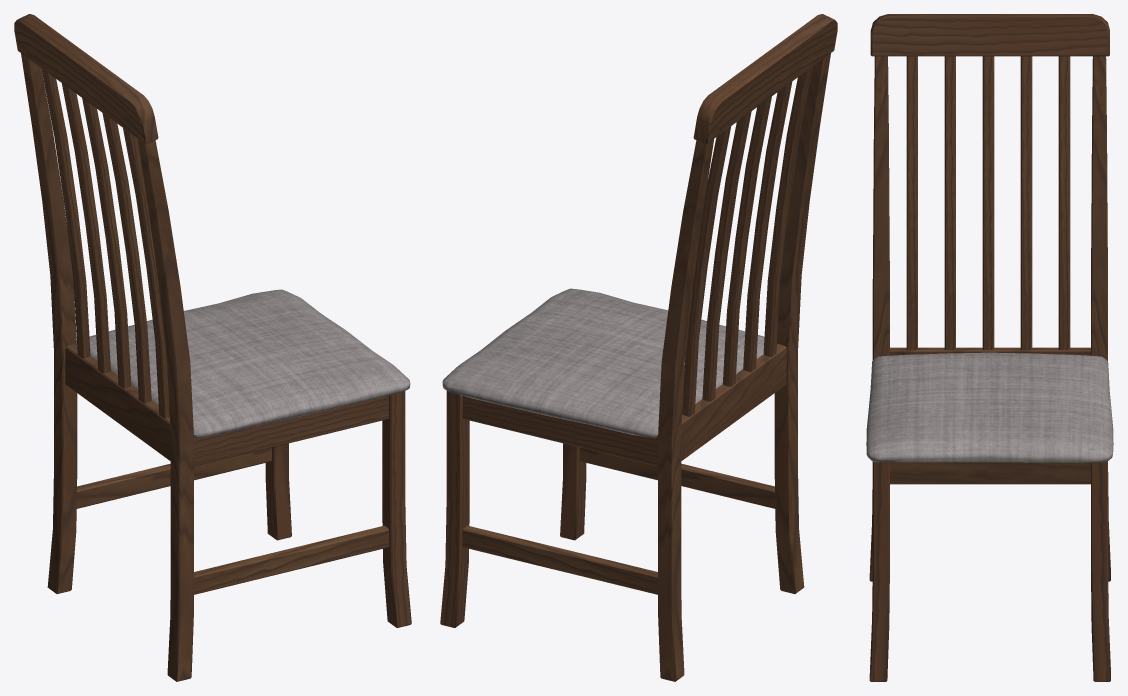
Rendered from chair3.obj.
3 renders of one model, left to right at view 1: azimuth 30°, elevation 25°; view 2: azimuth 150°, elevation 25°; view 3: azimuth 270°, elevation 25°, orthographic. The views are drawn at different scales.
Parts seen in each view (by area): view 1: Cube.010; view 2: Cube.010; view 3: Cube.010.
Boxes of the visible parts, left/top/right/bottom form: Cube.010: left=14, top=14, right=411, bottom=681; Cube.010: left=440, top=14, right=837, bottom=681; Cube.010: left=866, top=14, right=1113, bottom=681.
Size of the model in its own units: 0.4659 by 0.9465 by 0.3873.
